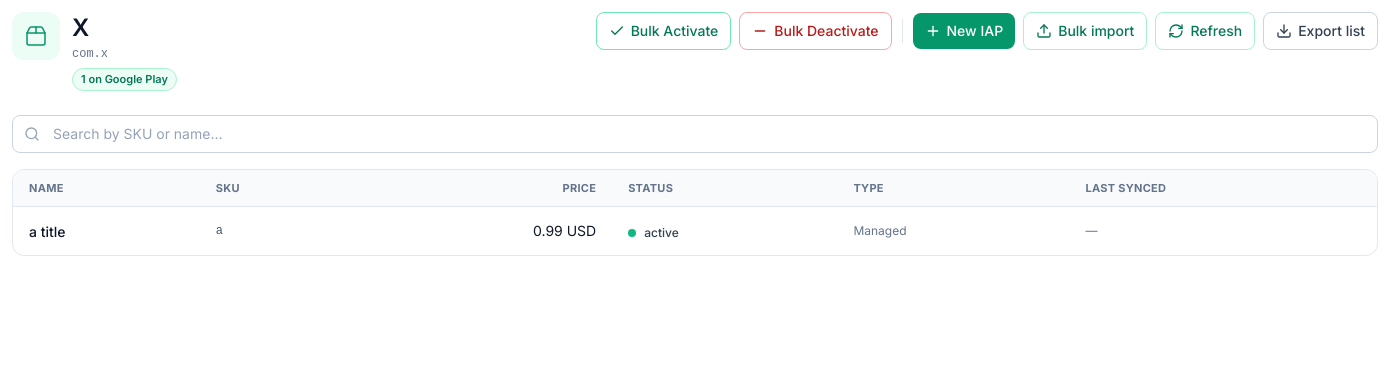
Scenario: IapListClient — Refresh that did not count as complete › failed rows ⇒ the server's FAILED_ROWS warning is shown too
Step 1. Click the button "Refresh" → point(1205, 31), box [1155,12,1255,50]
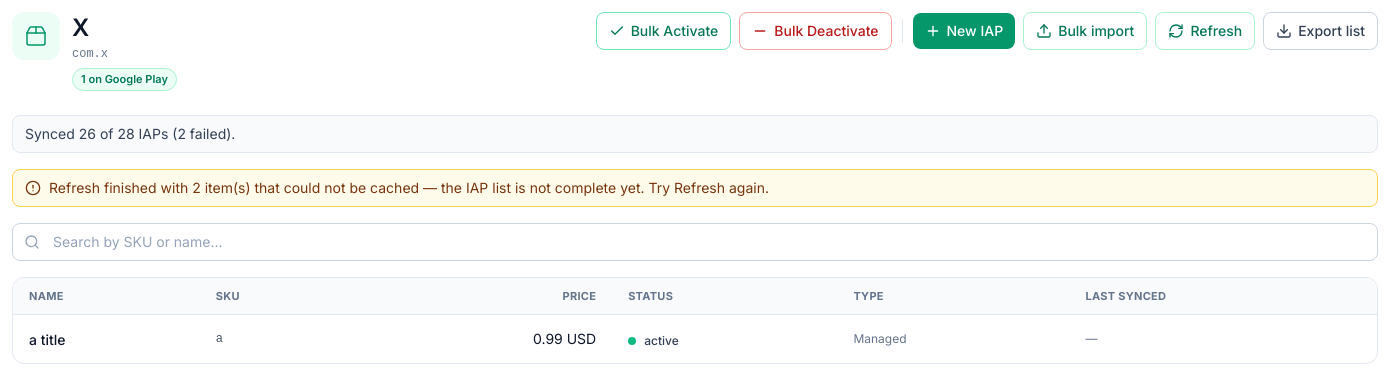
Result: the element with test id "refresh-mirror-warning" shows "2 item(s) that could not be cached" at [49,178,769,196]
